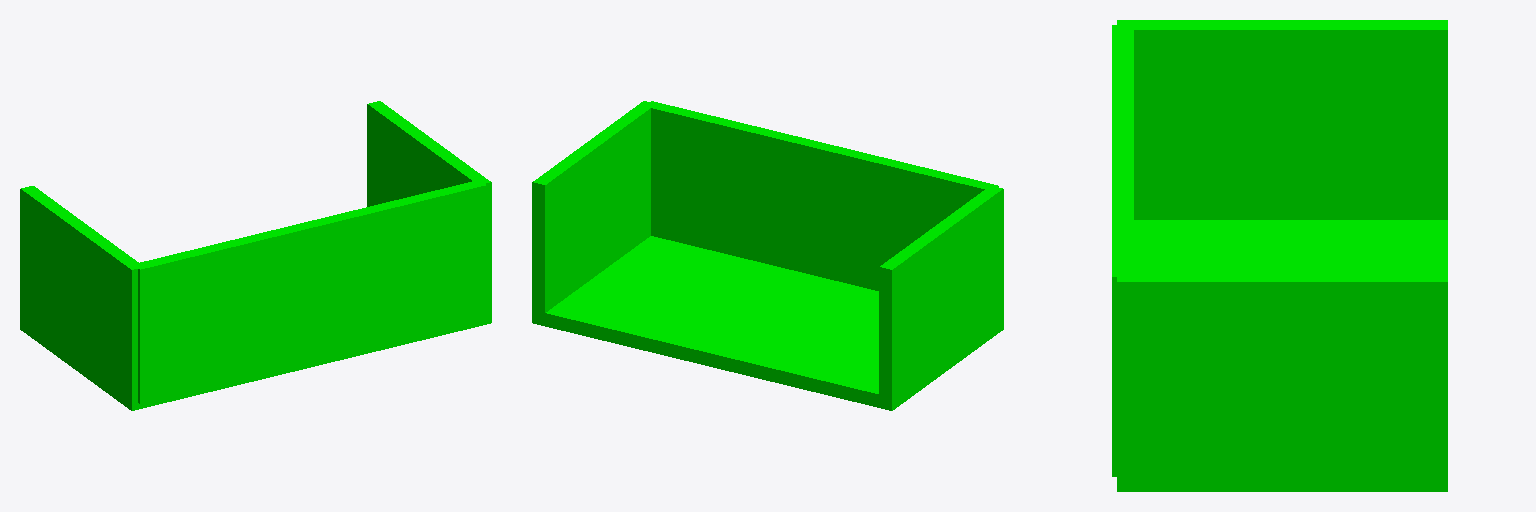
URDF robot description (cube.urdf):
<?xml version="0.0" ?>
<robot name="cube.urdf">
  <link name="baseLink">
    <inertial>
      <origin rpy="0 0 0" xyz="0 -0.0725 0"/>
      <mass value="0.001"/>
      <inertia ixx="-4.46E-06" ixy="-4.55E-07" ixz="1.95E-06" iyy="-2.47E-06" iyz="8.51E-08" izz="2.17E-06"/>
    </inertial>
    <visual>
      <origin rpy="0 0 0" xyz="0 -0.0725 0"/>
      <geometry>
        <box size=".27 .01 0.1"/>
      </geometry>
      <material name="green">
      </material> 
    </visual>
    <collision>
      <origin rpy="0 0 0" xyz="0 -0.0725 0"/>
      <geometry>
        <box size=".27 .01 0.1"/>
      </geometry>
    </collision>
  </link>

  <joint name="rear_joint" type="fixed">
    <origin rpy="0 0 0" xyz="0 0 0"/>
    <parent link="baseLink"/>
    <child link="down"/>
  </joint>


  <link name="down">
    <inertial>
      <origin rpy="0 0 0" xyz="0 0 0"/>
      <mass value="0.001"/>
      <inertia ixx="-4.46E-06" ixy="-4.55E-07" ixz="1.95E-06" iyy="-2.47E-06" iyz="8.51E-08" izz="2.17E-06"/>
    </inertial>
    <visual>
      <origin rpy="0 0 0" xyz="0 0 -0.05"/>
      <geometry>
        <box size=".28 .15 0.01"/>
      </geometry>
      <material name="green">
      </material> 
    </visual>
    <collision>
      <origin rpy="0 0 0" xyz="0 0 -0.05"/>
      <geometry>
        <box size=".28 .15 0.01"/>
      </geometry>
    </collision>
  </link>

  <link name="left">
    <inertial>
      <origin rpy="0 0 0" xyz="0 0 0"/>
      <mass value="0.001"/>
      <inertia ixx="-4.46E-06" ixy="-4.55E-07" ixz="1.95E-06" iyy="-2.47E-06" iyz="8.51E-08" izz="2.17E-06"/>
    </inertial>
    <visual>
      <origin rpy="0 0 0" xyz="0.135 0.0 0"/>
      <geometry>
        <box size=".01 .15 0.1"/>
      </geometry>
      <material name="green">
      </material> 
    </visual>
    <collision>
      <origin rpy="0 0 0" xyz="0.135 0 0"/>
      <geometry>
        <box size=".01 .15 0.1"/>
      </geometry>
    </collision>
  </link>

  <joint name="left_joint" type="fixed">
    <origin rpy="0 0 0" xyz="0 0 0"/>
    <parent link="down"/>
    <child link="left"/>
  </joint>

  <link name="right">
    <inertial>
      <mass value="0.001"/>
      <inertia ixx="-4.46E-06" ixy="-4.55E-07" ixz="1.95E-06" iyy="-2.47E-06" iyz="8.51E-08" izz="2.17E-06"/>
    </inertial>
    <visual>
      <origin rpy="0 0 0" xyz="-0.135 0.0 0"/>
      <geometry>
        <box size=".01 .15 0.1"/>
      </geometry>
      <material name="green">
      </material> 
    </visual>
    <collision>
      <origin rpy="0 0 0" xyz="-0.135 0 0"/>
      <geometry>
        <box size=".01 .15 0.1"/>
      </geometry>
    </collision>
  </link>

  <joint name="right_joint" type="fixed">
    <origin rpy="0 0 0" xyz="0 0 0"/>
    <parent link="down"/>
    <child link="right"/>
  </joint>


  <material name="panda_white">
    <color rgba="1. 1. 1. 1."/>
  </material>
  <material name="red">
    <color rgba="1.0 0. 0. 1.0"/>
  </material>
  <material name="blue">
    <color rgba="0. 0. 1. 1.0"/>
  </material>
  <material name="green">
    <color rgba="0. 1. 0. 1.0"/>
  </material>
<material name="Yellow">
  <color rgba="0.949 0.878 0.0392 1.0"/>
</material>
<material name="Blue">
  <color rgba="0.12156 0.3804 0.6745 1.0"/>
</material>
<material name="Red">
  <color rgba="0.9254901 0.243137 0.086274509 1.0"/>
</material>
</robot>

--- Render facts (derived) ---
3 views of the same robot in one strip: view 1: azimuth 30°, elevation 25°; view 2: azimuth 150°, elevation 25°; view 3: azimuth 270°, elevation 25° (orthographic).
Model cube.urdf with 4 links and 3 joints (3 fixed), rooted at baseLink, posed every joint at zero.
Visible links, largest first — view 1: baseLink, right, left, down; view 2: baseLink, down, right, left; view 3: left, right, down, baseLink.
Link boxes in pixels (x1,y1,x2,y2): baseLink: [135, 180, 486, 403]; right: [20, 186, 142, 403]; left: [367, 101, 491, 310]; down: [20, 310, 491, 410]; baseLink: [645, 101, 998, 290]; down: [532, 236, 1003, 410]; right: [879, 186, 1003, 403]; left: [532, 101, 654, 316]; left: [1117, 272, 1447, 481]; right: [1117, 20, 1447, 219]; down: [1117, 220, 1447, 491]; baseLink: [1112, 25, 1133, 476].
Bounding box of the posed robot: 0.28 × 0.1525 × 0.105 m (x, y, z).
Geometry: primitives only (box / cylinder / sphere), no mesh files.